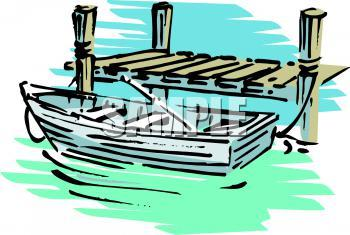boat: (12, 69, 285, 178)
